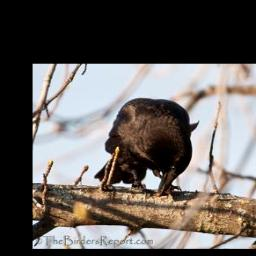Crow: (92, 96, 202, 197)
